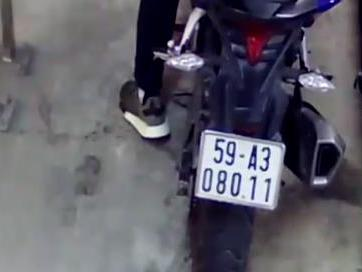num_plate: (193, 127, 286, 213)
